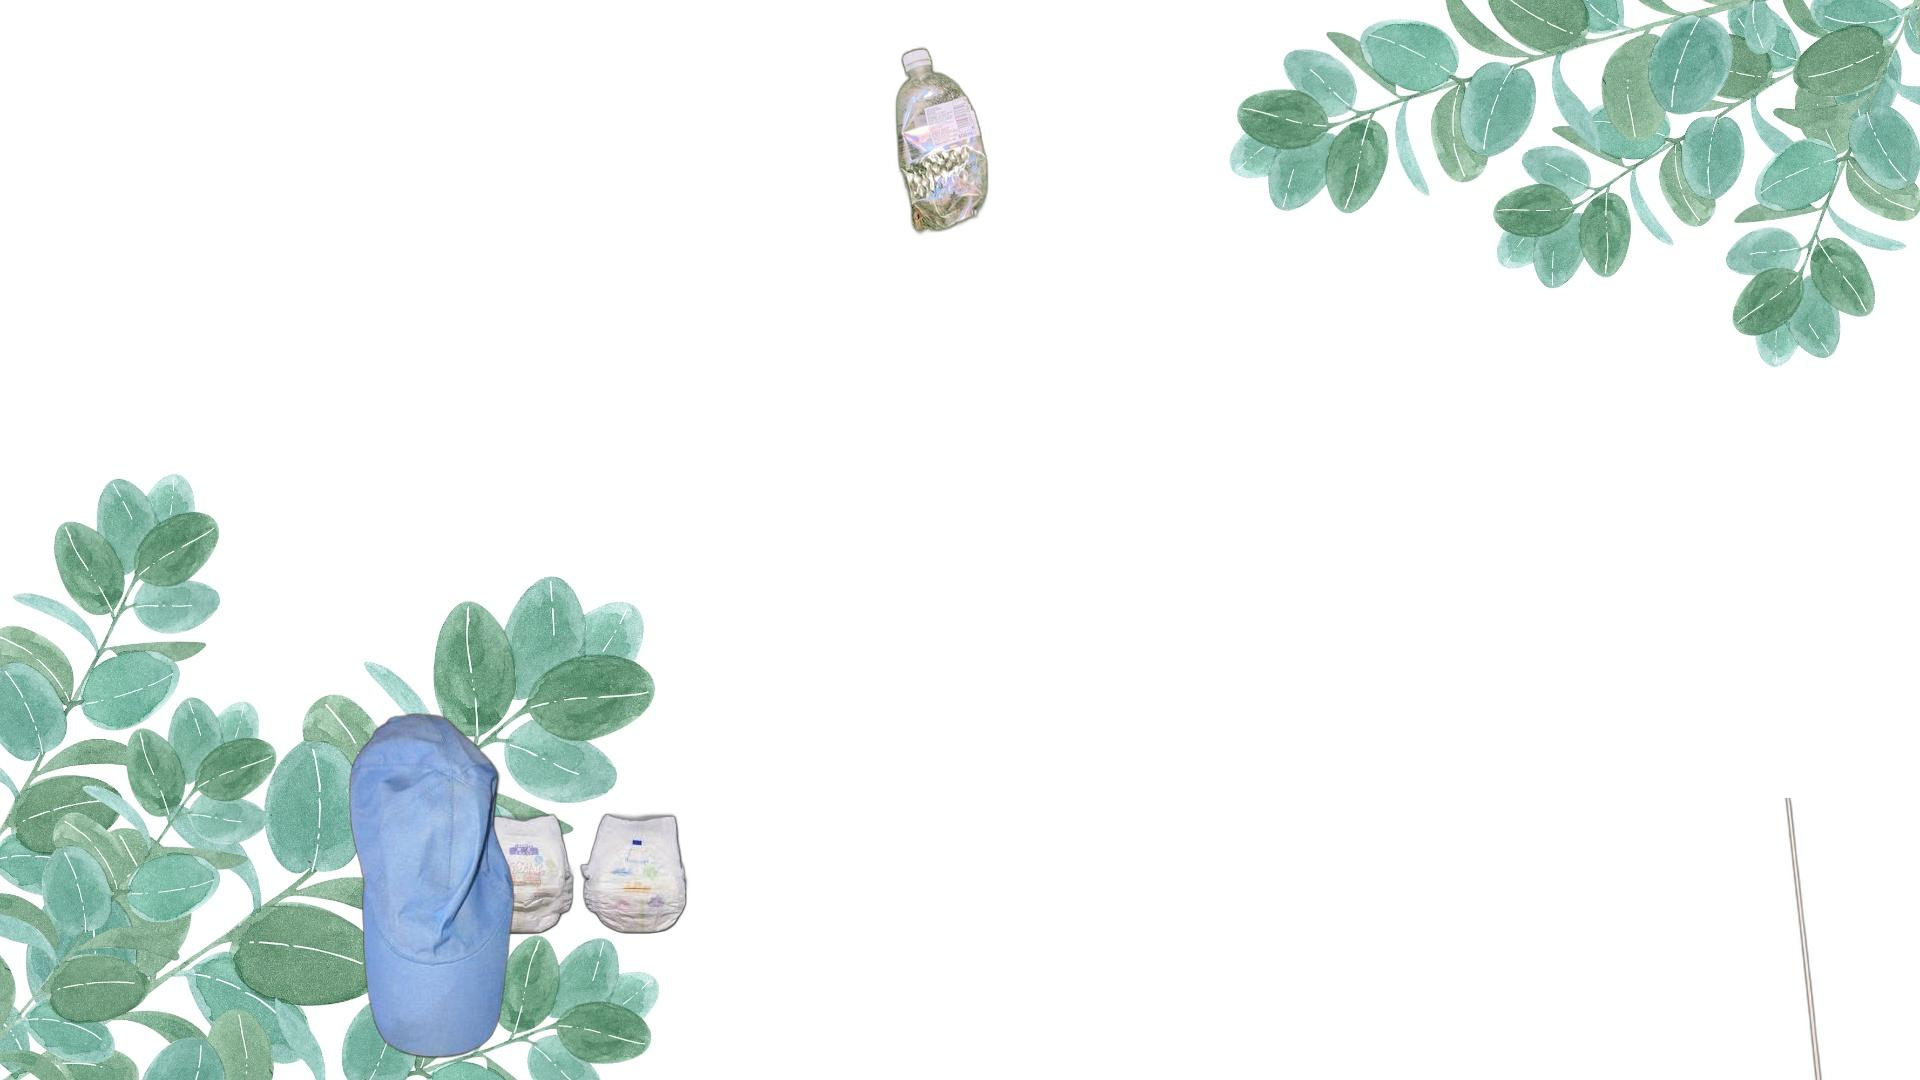clothes: (345, 711, 518, 1060)
plastic-bottles: (1687, 798, 1920, 1080), (891, 42, 992, 237)
trash: (469, 811, 692, 938)
